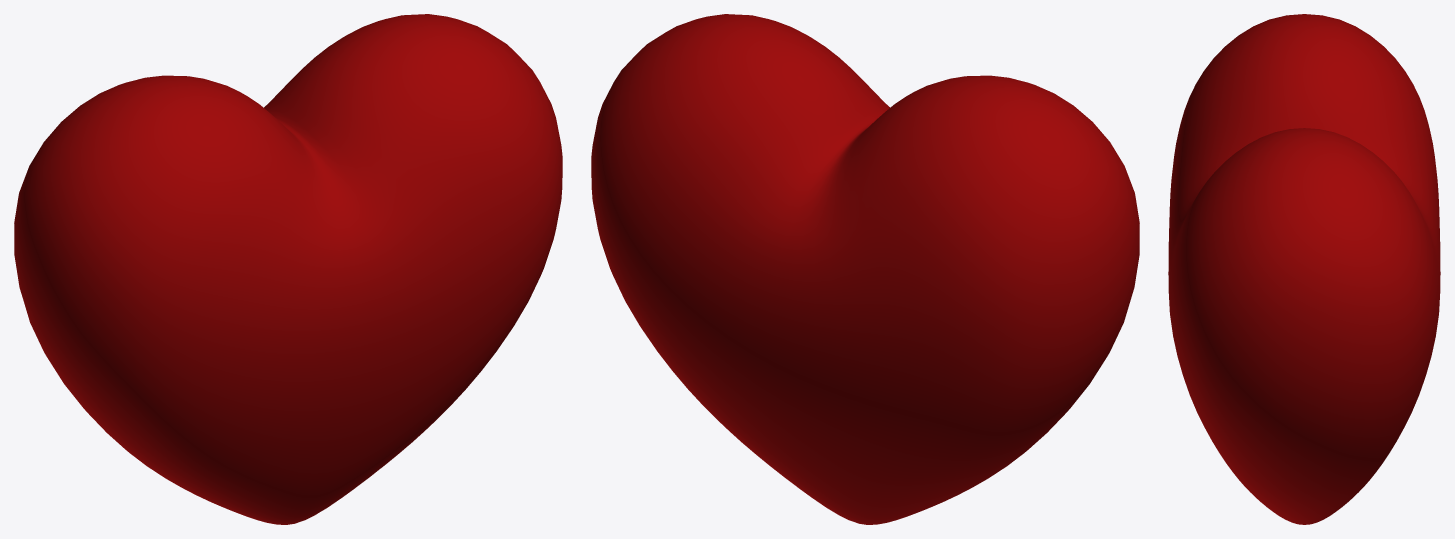
3 views of the same model, side by side, from view 1: azimuth 30°, elevation 25°; view 2: azimuth 150°, elevation 25°; view 3: azimuth 270°, elevation 25° (orthographic). The views are drawn at different scales.
Parts seen in each view (by area): view 1: BASE HEART_Material #41_0; view 2: BASE HEART_Material #41_0; view 3: BASE HEART_Material #41_0.
Boxes of the visible parts, x1,y1,x2,y2 form: BASE HEART_Material #41_0: [14, 14, 562, 524]; BASE HEART_Material #41_0: [591, 14, 1139, 524]; BASE HEART_Material #41_0: [1168, 14, 1440, 524].
Size of the model in its own units: 85.81 by 74.83 by 42.25.
